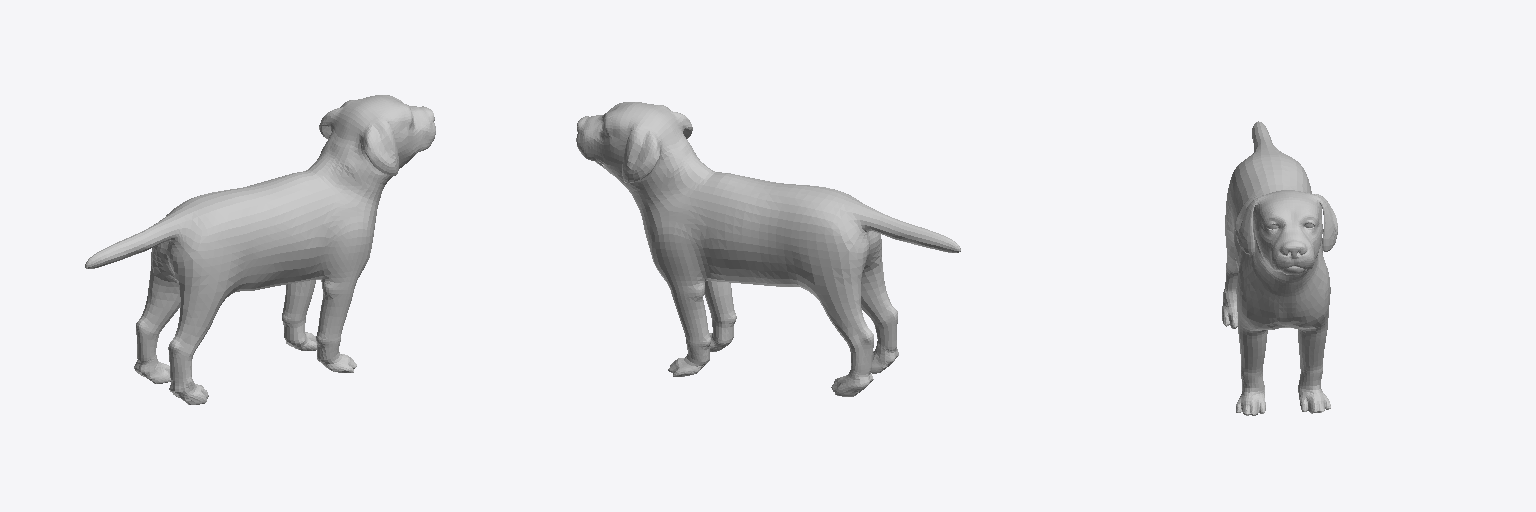
The model's file is Dog.obj.
The picture shows the model from 3 angles: view 1: azimuth 30°, elevation 25°; view 2: azimuth 150°, elevation 25°; view 3: azimuth 270°, elevation 25°; orthographic projection.
Visible parts, largest first — view 1: Dog; view 2: Dog; view 3: Dog.
Part boxes in pixels (bbox=[...]): Dog: bbox=[85, 95, 435, 404]; Dog: bbox=[576, 102, 960, 396]; Dog: bbox=[1222, 121, 1337, 415].
Bounding box in the file's own units: 6.78 × 4.34 × 1.88.